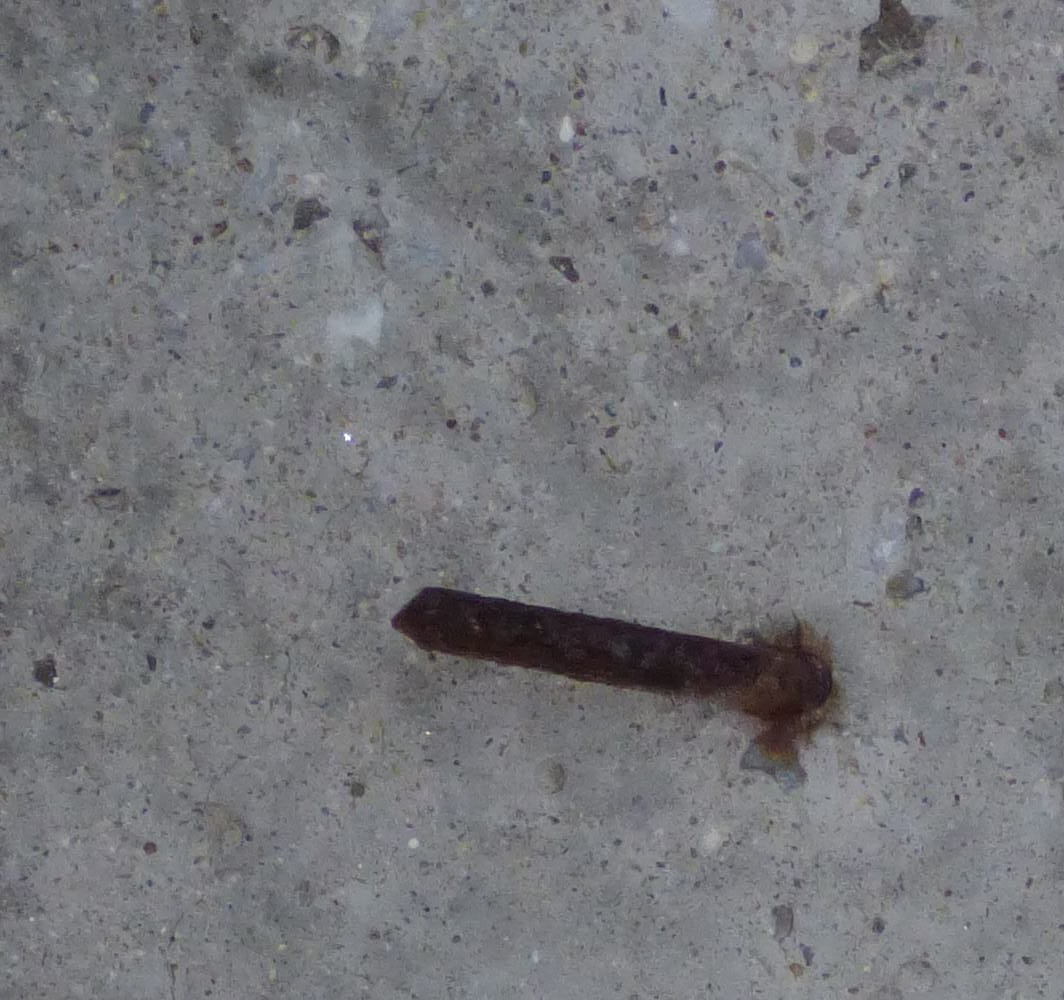Exposed reinforcement: (390, 586, 816, 712)
